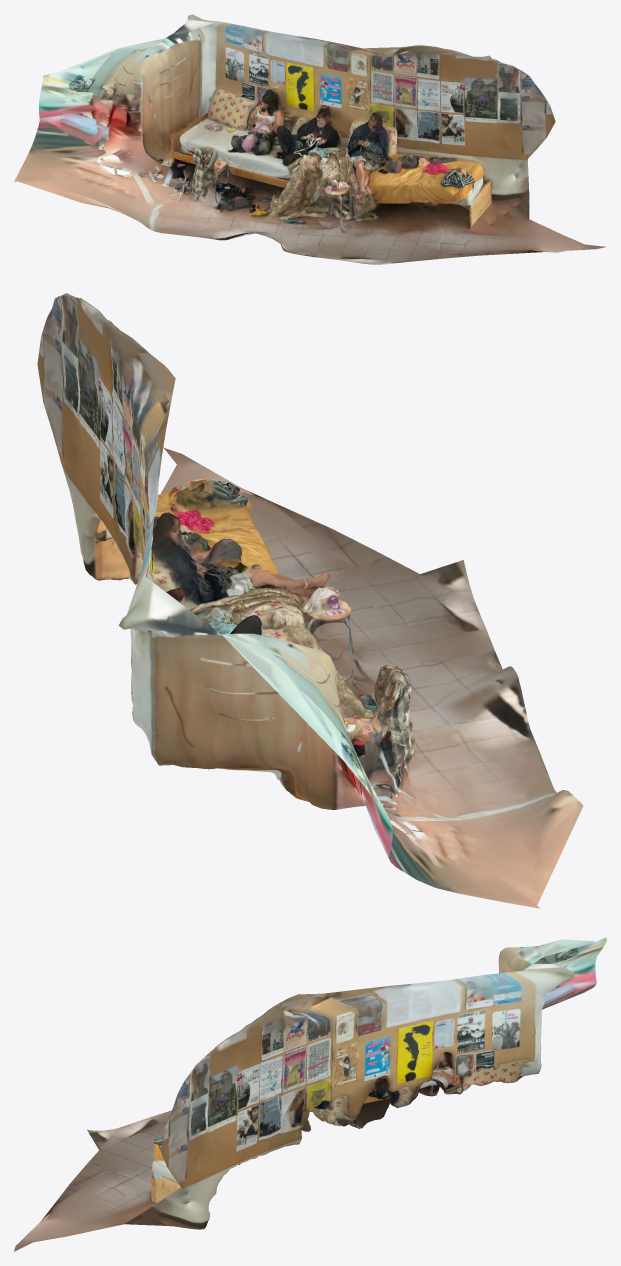
3 views of the same model, one above another, from view 1: azimuth 30°, elevation 25°; view 2: azimuth 150°, elevation 25°; view 3: azimuth 270°, elevation 25° (orthographic). The views are drawn at different scales.
Parts seen in each view (by area): view 1: photogrammetry; view 2: photogrammetry; view 3: photogrammetry.
Part boxes in pixels (x1,y1,x2,y2): photogrammetry: (14,14,605,264); photogrammetry: (37,293,583,908); photogrammetry: (14,937,606,1251).
Bounding box in the file's own units: 5.73 × 2.16 × 5.79.
Materials: 1 (1 with a texture image).
